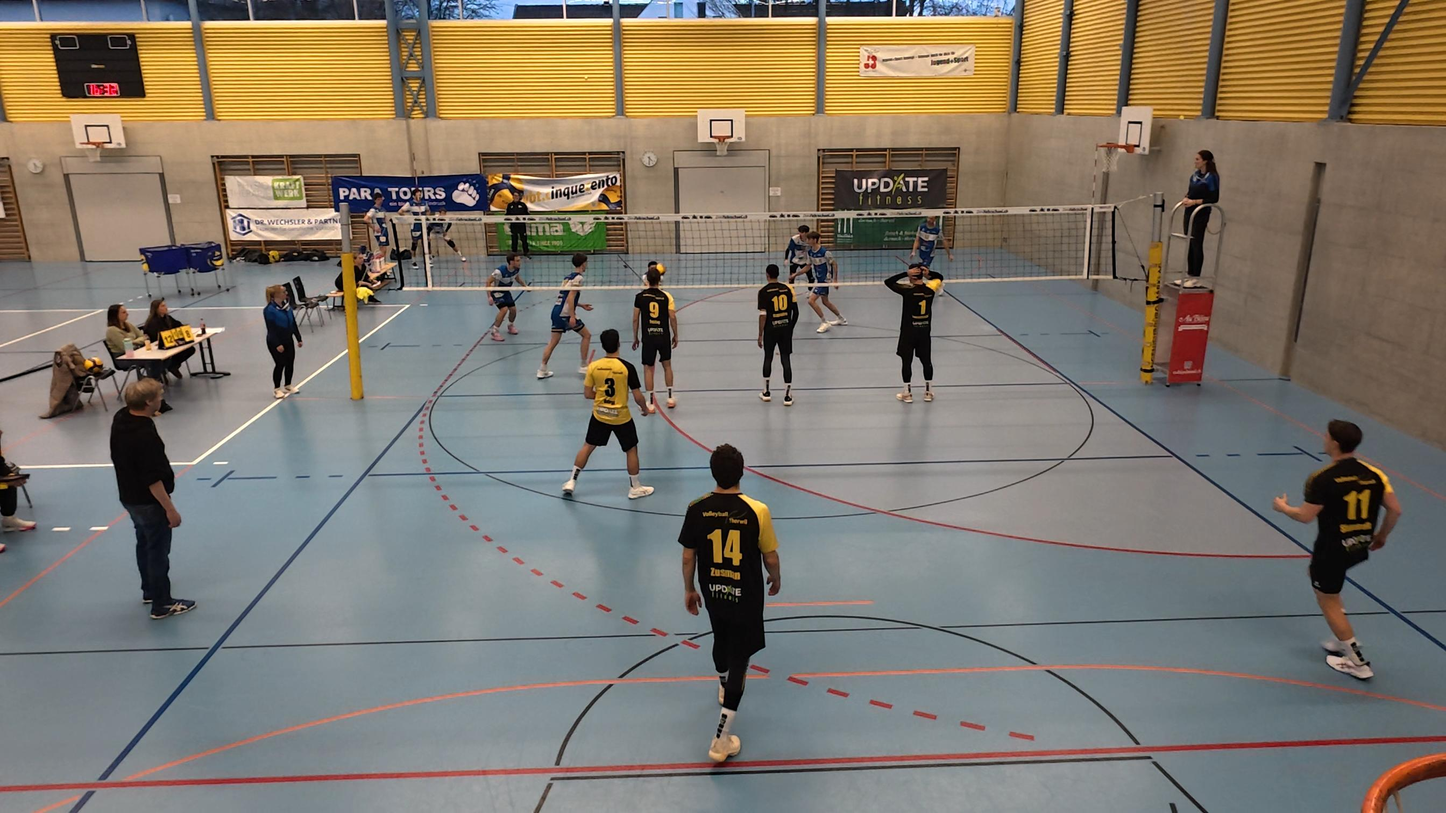ricezione: (641, 255, 670, 288)
